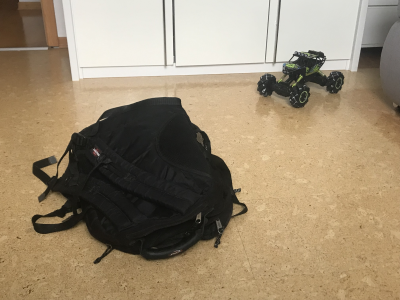remote control car: (256, 45, 346, 108)
